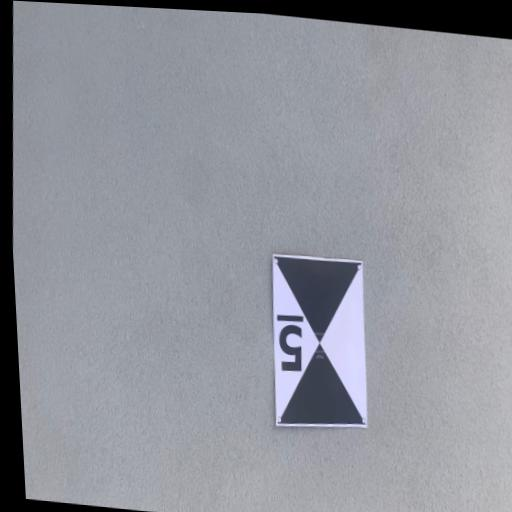target5: (273, 254, 367, 429)
